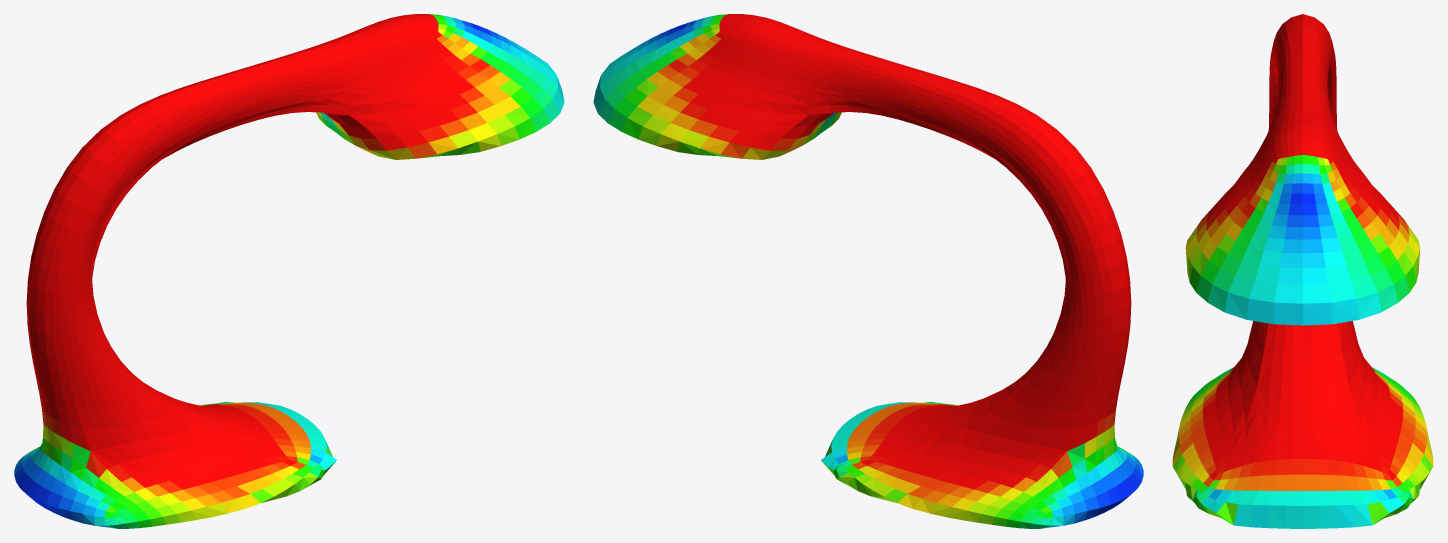
File: lamp_opt_quality.obj
3 renders of one model, left to right at view 1: azimuth 30°, elevation 25°; view 2: azimuth 150°, elevation 25°; view 3: azimuth 270°, elevation 25°, orthographic. The views are drawn at different scales.
Bounding box in the file's own units: 5.64 × 4.09 × 2.15.
